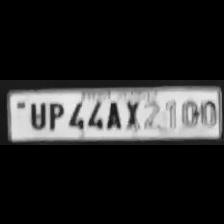0: (178, 95, 200, 127), (200, 94, 218, 125)
1: (161, 96, 177, 128)
2: (140, 96, 162, 130)
4: (64, 97, 86, 128), (85, 97, 103, 129)
A: (102, 97, 122, 128)
P: (45, 99, 65, 129)
U: (26, 99, 46, 129)
X: (120, 97, 142, 129)
